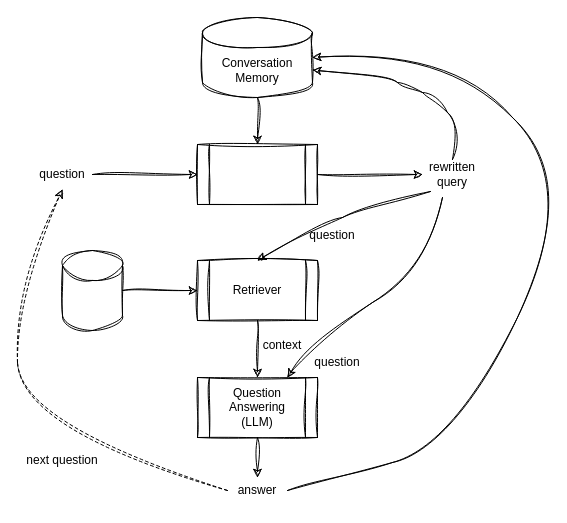
Image size: 567x523. Some labels were removed from this diagram. The box of each missing label's shape, as (x1, y1, x2, y2) in pixels:
Question Rewriting (LLM): (196, 144, 318, 204)
Vector Store: (62, 250, 122, 330)
